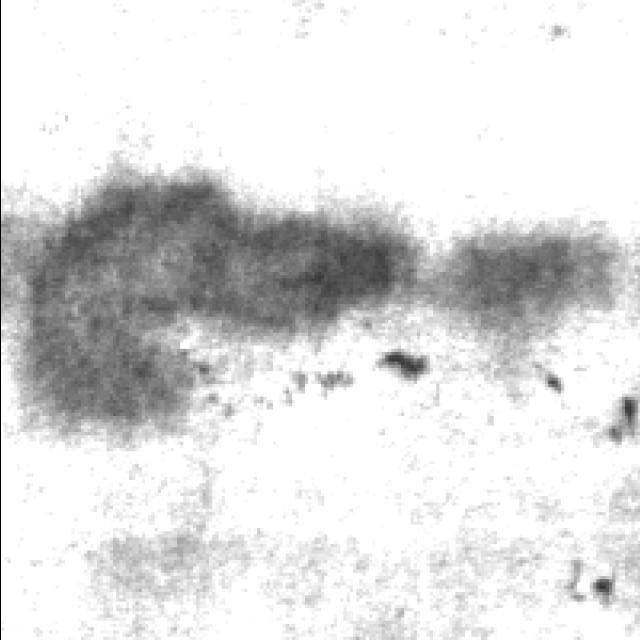patches: (0, 167, 421, 371), (436, 218, 632, 394), (12, 274, 202, 442)
